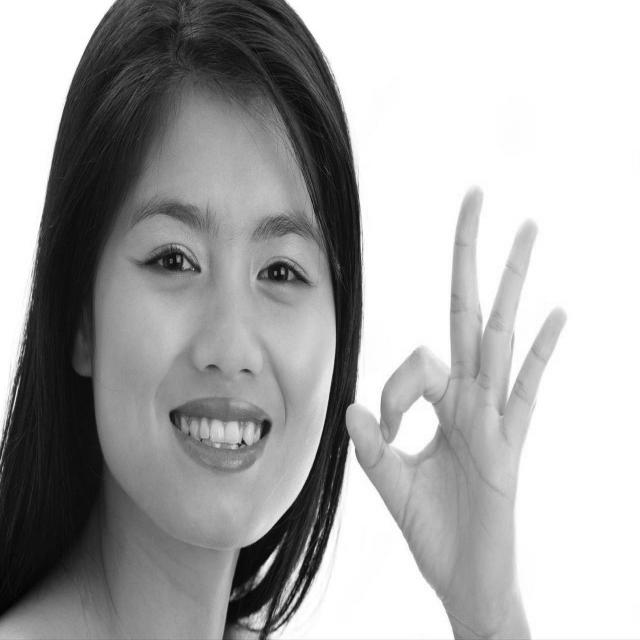perfect: (343, 177, 571, 623)
